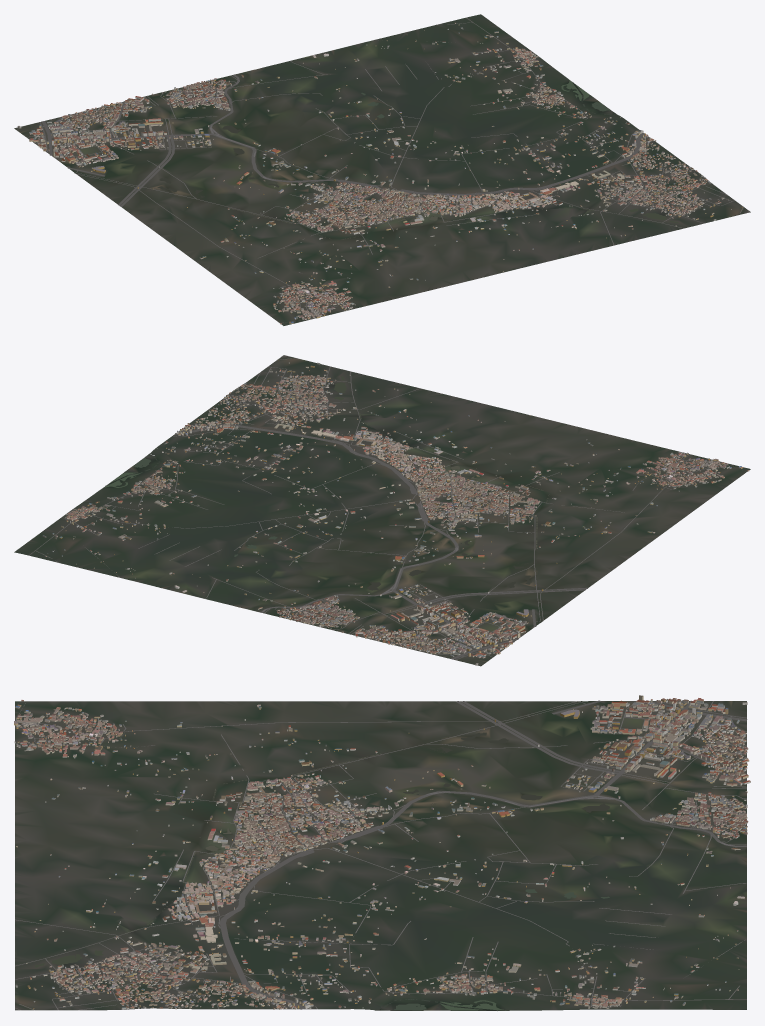
3 renders of one model, top to bottom at view 1: azimuth 30°, elevation 25°; view 2: azimuth 150°, elevation 25°; view 3: azimuth 270°, elevation 25°, orthographic. The views are drawn at different scales.
Parts seen in each view (by area): view 1: ground, buildings, roads, water; view 2: ground, buildings, roads, water; view 3: ground, buildings, roads, water.
Part boxes in pixels (bbox=[...]): ground: bbox=[14, 14, 750, 325]; buildings: bbox=[17, 22, 742, 324]; roads: bbox=[27, 17, 748, 322]; water: bbox=[74, 69, 678, 239]; ground: bbox=[14, 355, 750, 666]; buildings: bbox=[42, 359, 749, 665]; roads: bbox=[29, 356, 746, 660]; water: bbox=[103, 376, 549, 621]; ground: bbox=[15, 701, 746, 1010]; buildings: bbox=[14, 695, 750, 1009]; roads: bbox=[15, 700, 747, 1010]; water: bbox=[35, 701, 746, 1010].
Bounding box in the file's own units: 2819 × 33.26 × 2823.
